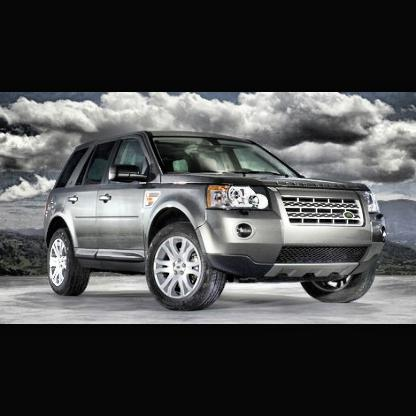Land Rover LR2 SUV 2012: (46, 132, 389, 312)
